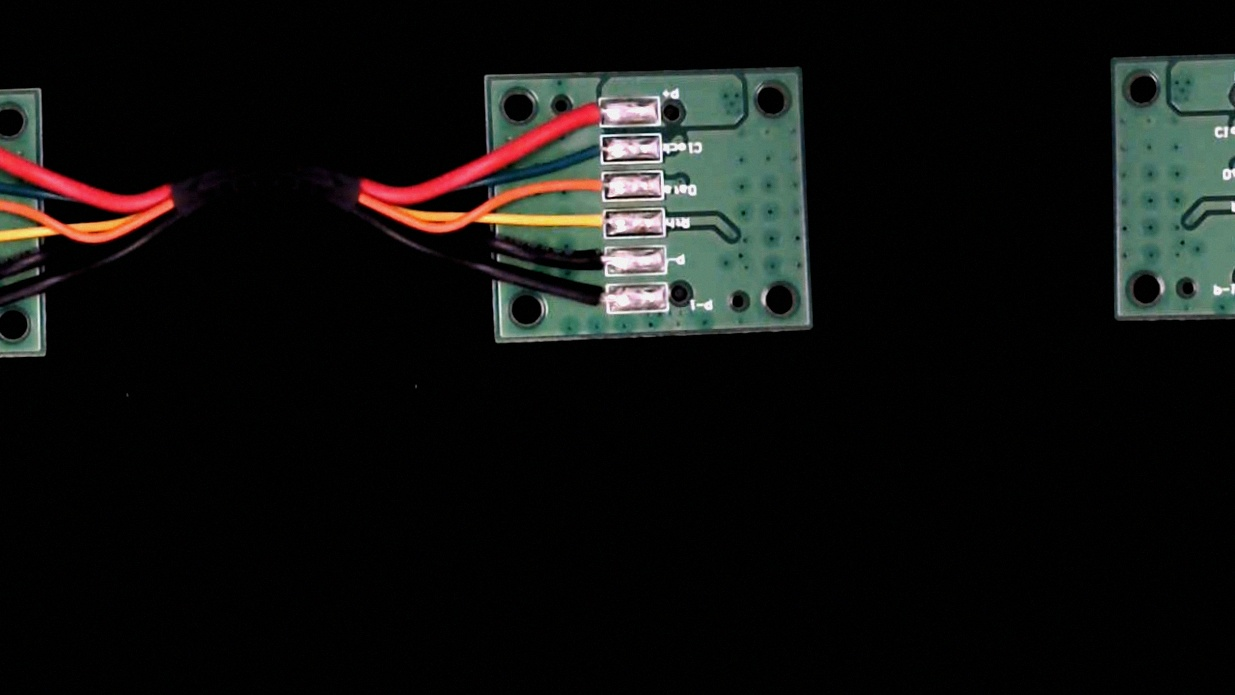Black: (550, 243, 621, 278)
Black1: (558, 283, 623, 316)
Green: (552, 135, 621, 170)
Orange: (551, 173, 621, 206)
Red: (546, 96, 615, 130)
Yellow: (550, 208, 622, 243)
